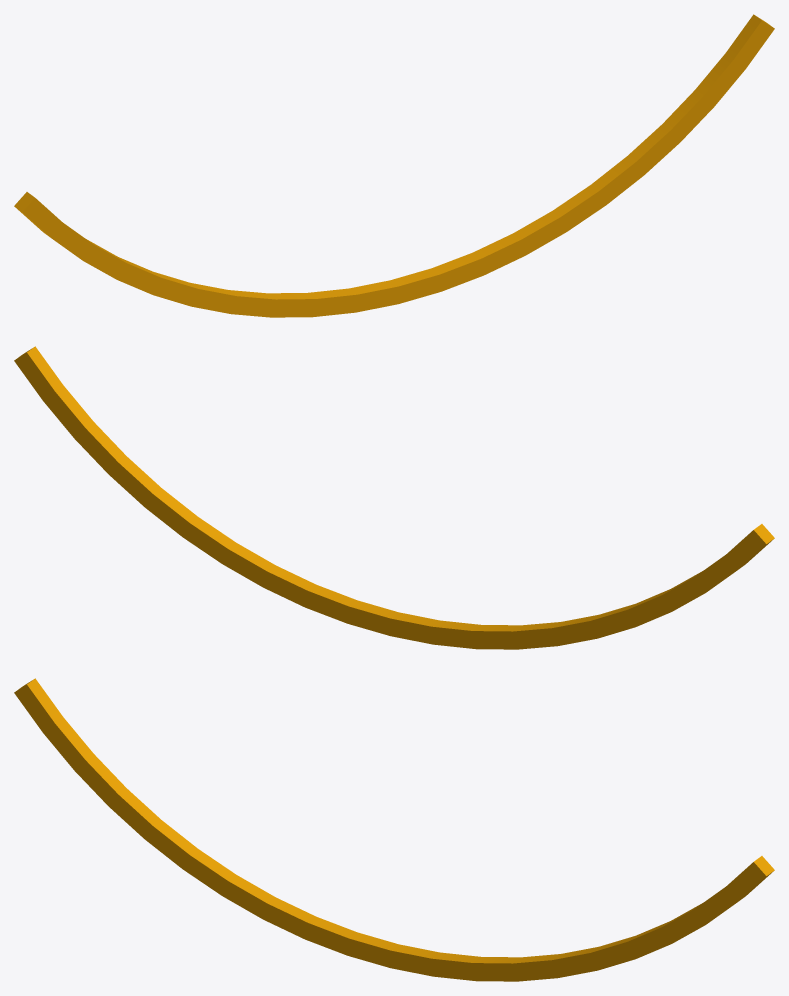
File: L_Rope_A_03.fbx
3 views of the same model, one above another, from view 1: azimuth 30°, elevation 25°; view 2: azimuth 150°, elevation 25°; view 3: azimuth 330°, elevation 25° (orthographic).
Visible parts, largest first — view 1: L_Rope_A_03; view 2: L_Rope_A_03; view 3: L_Rope_A_03.
Boxes of the visible parts, x1=… form: L_Rope_A_03: x1=14, y1=14, x2=774, y2=317; L_Rope_A_03: x1=14, y1=346, x2=774, y2=649; L_Rope_A_03: x1=14, y1=678, x2=774, y2=981.
Size of the model in its own units: 371 by 91.86 by 7.22.
